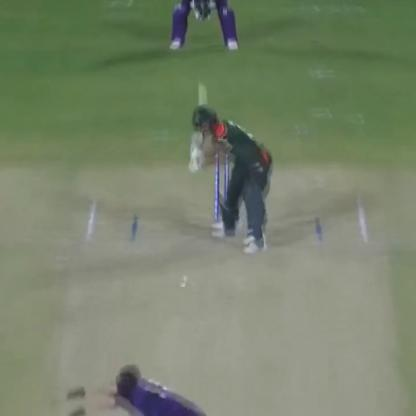ball: (176, 272, 192, 282), (177, 282, 189, 290)
bat: (190, 74, 212, 164)
pitch: (63, 194, 387, 416)
